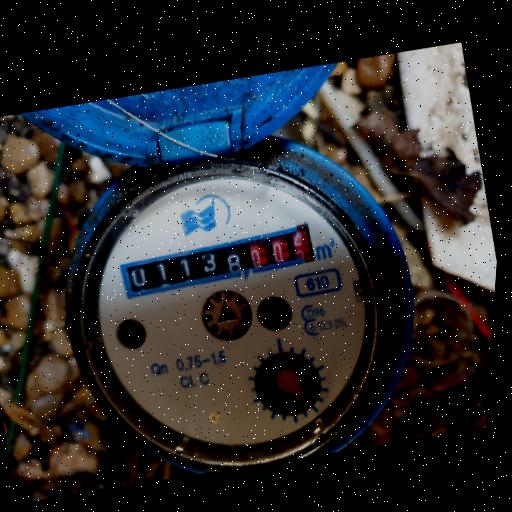0: (244, 236, 272, 271), (125, 262, 154, 294), (266, 233, 291, 266)
1: (149, 256, 177, 290), (174, 253, 200, 284)
2: (287, 223, 315, 264)
3: (197, 247, 225, 280)
8: (219, 242, 246, 278)
border_water_meter_number: (115, 210, 321, 314)
